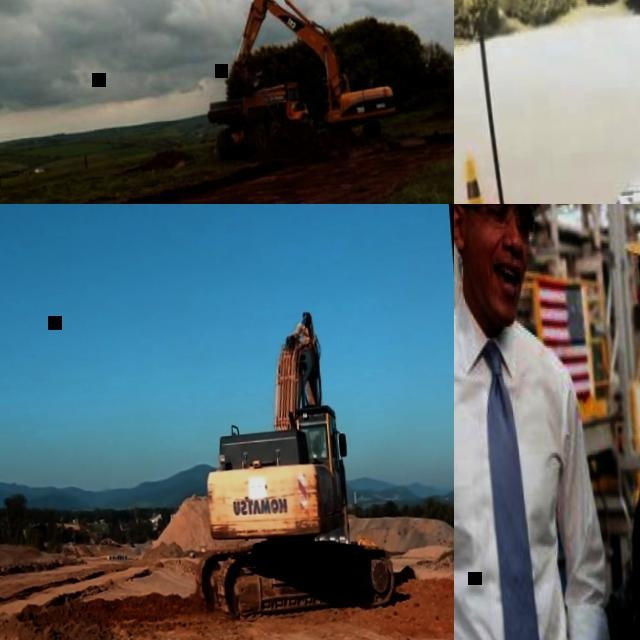NO-Mask: (461, 228, 529, 329)
NO-Safety Vest: (454, 302, 585, 640)
Person: (454, 204, 613, 640), (568, 204, 640, 640), (310, 436, 326, 459)
Safety Cone: (454, 157, 492, 204)
Safety Vest: (313, 448, 326, 458)
machinery: (175, 306, 393, 626), (196, 0, 399, 163)
vehicle: (454, 5, 640, 204)
